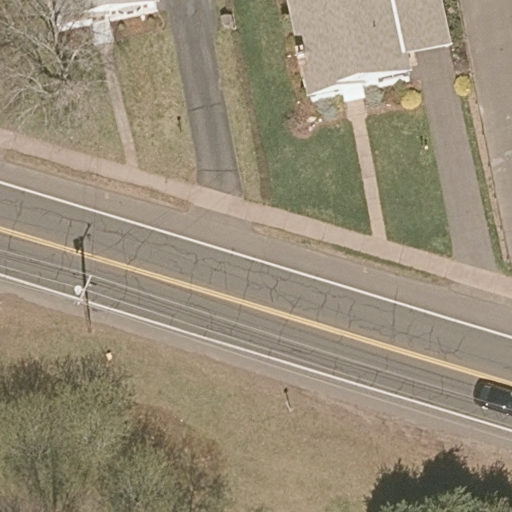DT: (73, 272, 96, 332)
